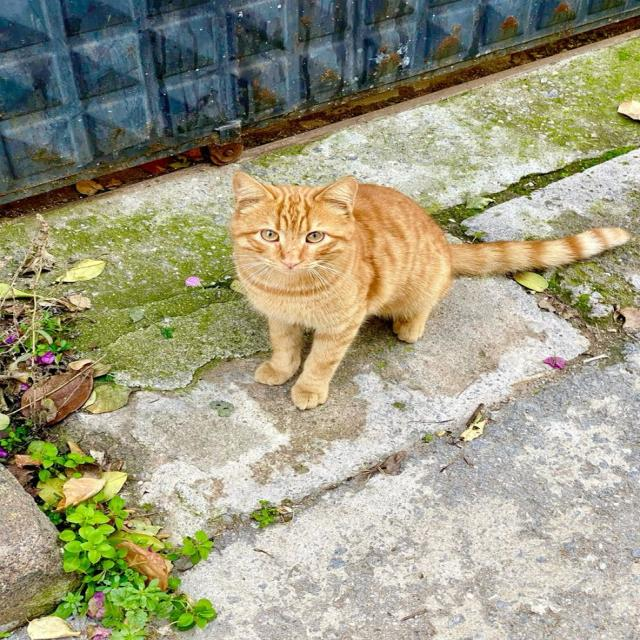sarman: (57, 70, 640, 445)
